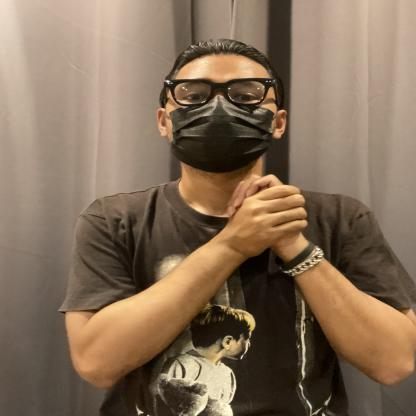Grieve: (125, 150, 377, 286)
